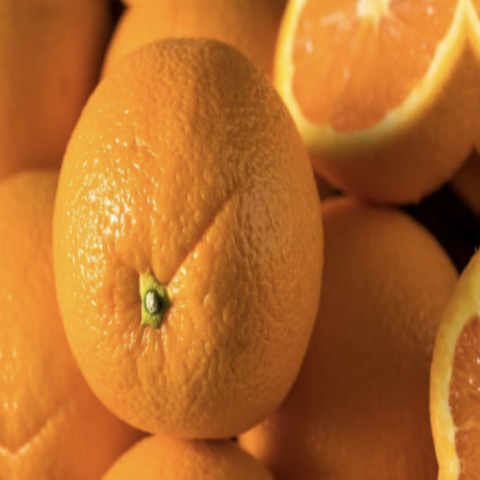orange: (5, 0, 349, 472)
